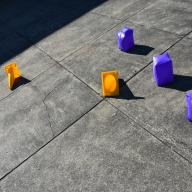cone: (101, 71, 119, 96), (5, 63, 20, 89)
cube: (153, 52, 174, 86), (117, 26, 135, 52), (186, 91, 192, 122)
